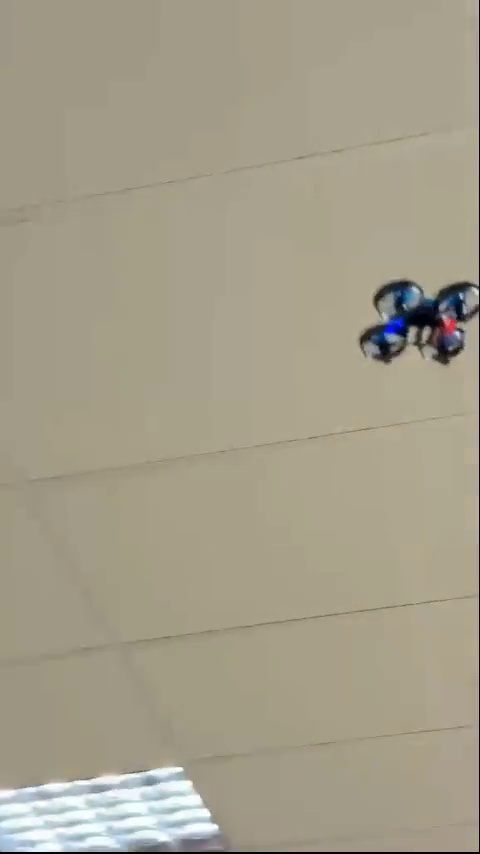drone: (361, 280, 477, 369)
